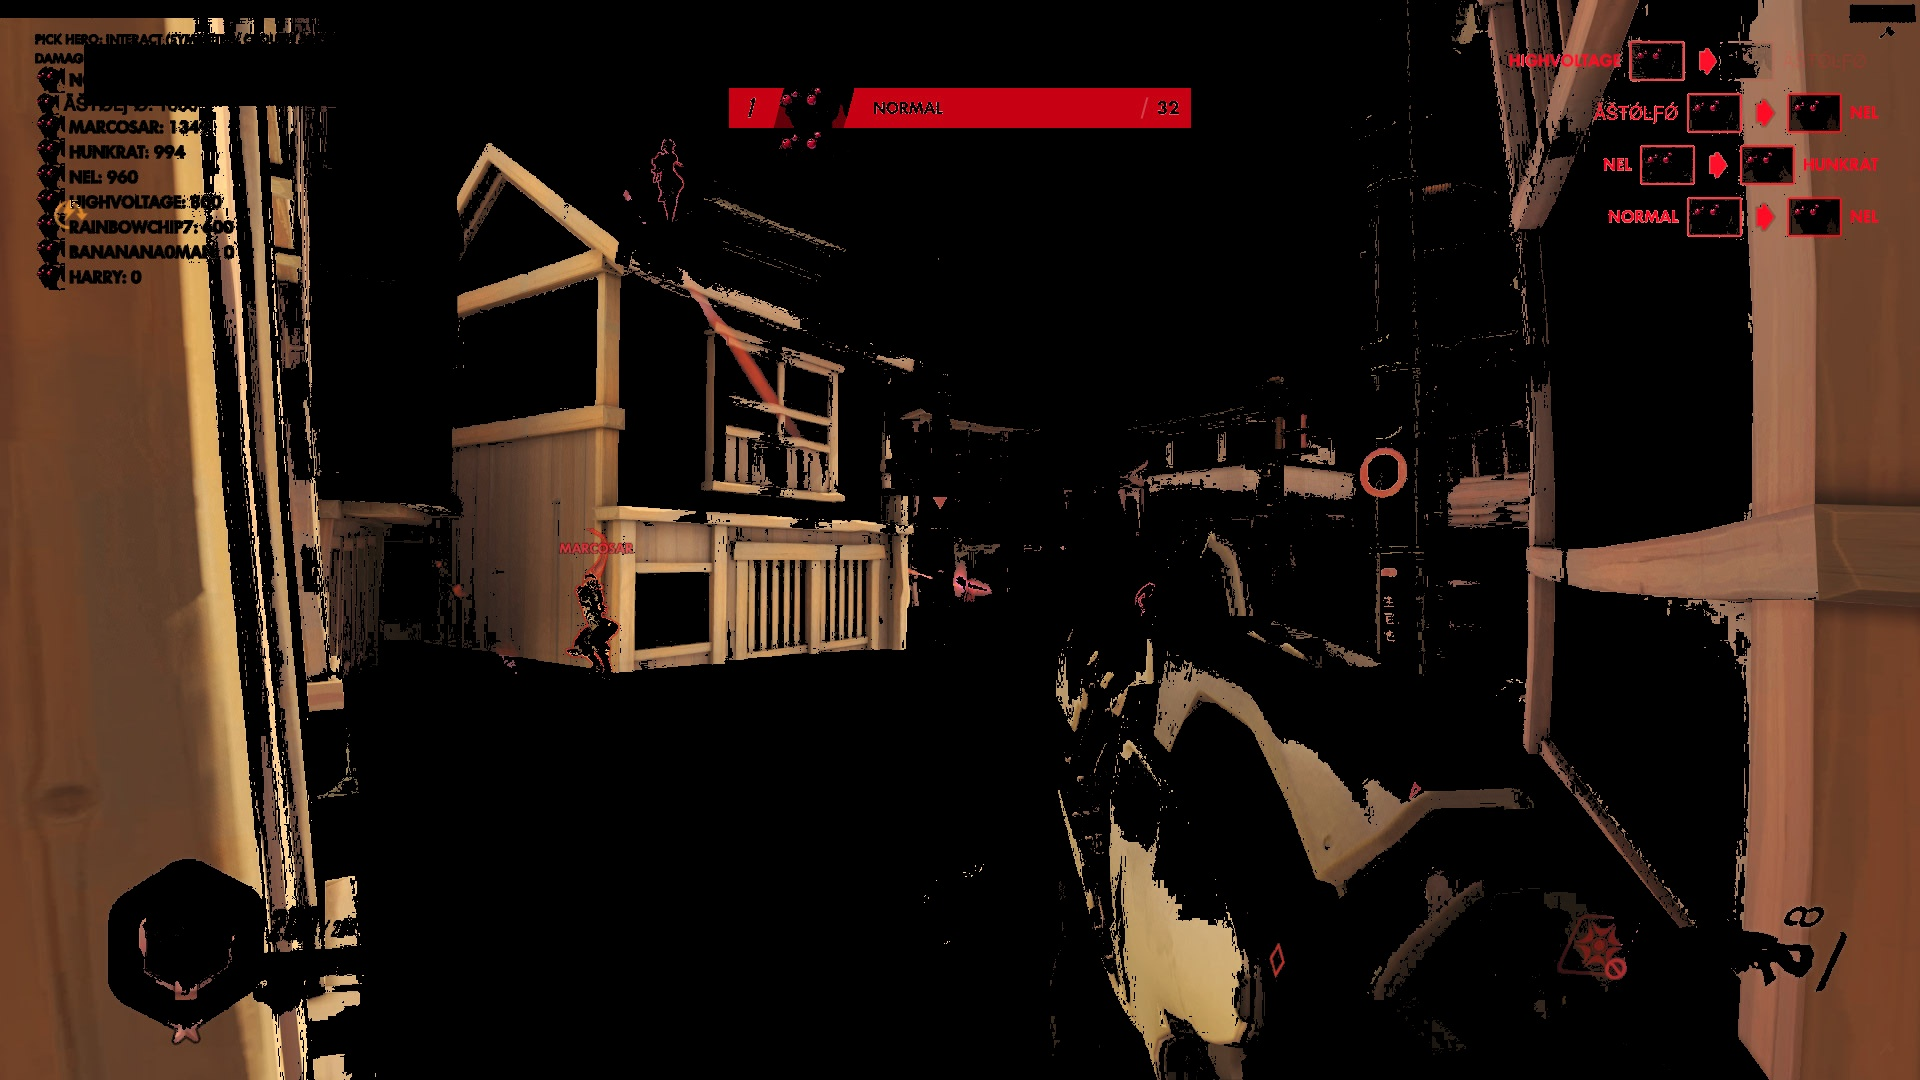widowmaker: (567, 564, 622, 684), (642, 131, 694, 237), (1127, 579, 1162, 620), (963, 578, 978, 605)
